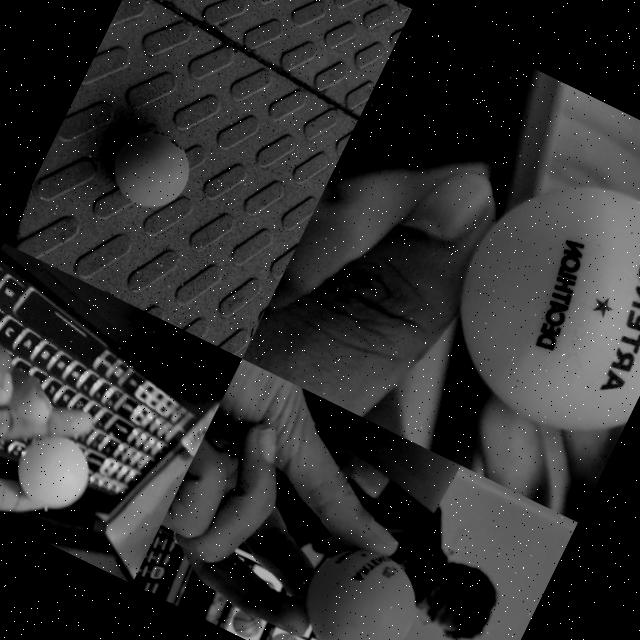ping-pong-ball: (422, 148, 640, 456), (286, 532, 431, 640), (100, 119, 202, 221), (5, 426, 100, 520)
